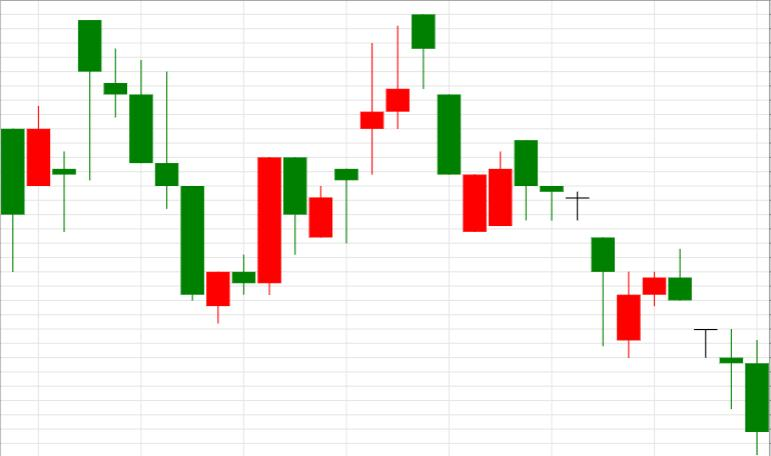hanging_man_fall: (258, 14, 435, 295)
